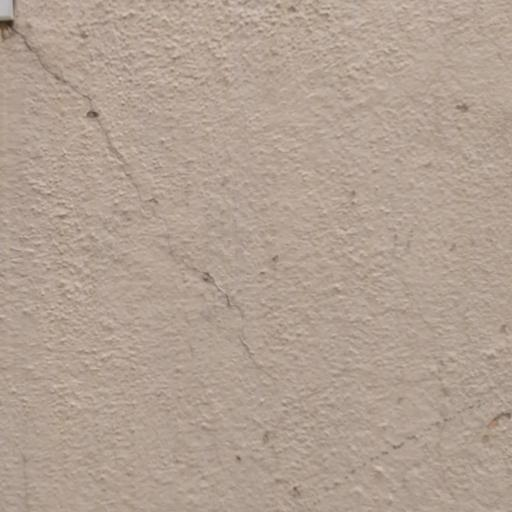minor_crack: (0, 6, 203, 272)
